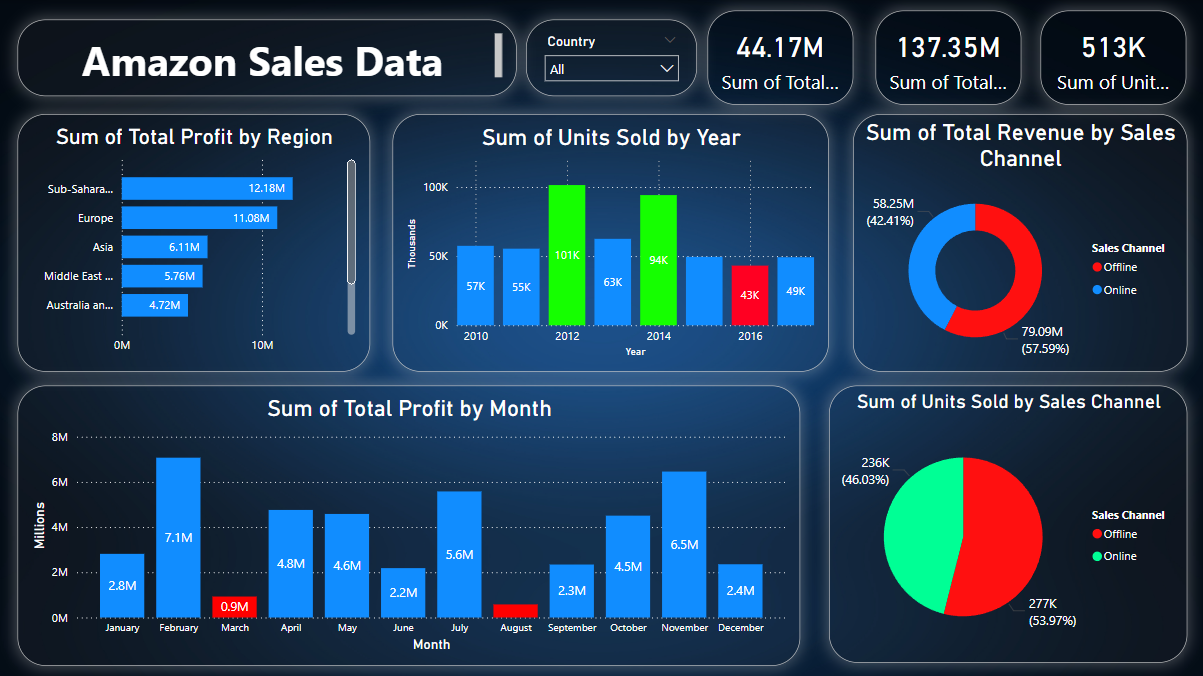

Layout of this report page (visuals, bound fields, positions):
{"tool":"powerbi","page":{"name":"Page 1","canvas":[1280,720],"ordinal":0},"visuals":[{"type":"columnChart","fields":{"Y":["Sum(Amazon Sales data (1).Total Profit)"],"Category":["Amazon Sales data (1).Order Date.Variation.Date Hierarchy.Month"]},"box":[20.7,408.8,830.3,297.4],"z":0},{"type":"barChart","fields":{"Category":["Amazon Sales data (1).Region"],"Y":["Sum(Amazon Sales data (1).Total Profit)"]},"box":[20.7,120.9,373.8,273.6],"z":1000},{"type":"pieChart","fields":{"Category":["Amazon Sales data (1).Sales Channel"],"Y":["Sum(Amazon Sales data (1).Units Sold)"]},"box":[881.2,408.8,380.2,294.3],"z":2000},{"type":"donutChart","fields":{"Category":["Amazon Sales data (1).Sales Channel"],"Y":["Sum(Amazon Sales data (1).Total Revenue)"]},"box":[906.6,120.9,354.7,273.6],"z":3000},{"type":"columnChart","fields":{"Category":["Amazon Sales data (1).Ship Date.Variation.Date Hierarchy.Year"],"Y":["Sum(Amazon Sales data (1).Units Sold)"]},"box":[418.3,120.9,462.9,273.6],"z":4000},{"type":"slicer","fields":{"Values":["Amazon Sales data (1).Country"]},"box":[559.4,20.8,181.4,81.3],"z":5000},{"type":"textbox","box":[20.8,20.8,529.1,81.3],"z":6000},{"type":"card","fields":{"Values":["Sum(Amazon Sales data (1).Total Profit)"]},"box":[752.1,11.3,155,100.2],"z":7000},{"type":"card","fields":{"Values":["Sum(Amazon Sales data (1).Total Revenue)"]},"box":[929.8,11.3,155,100.2],"z":8000},{"type":"card","fields":{"Values":["Sum(Amazon Sales data (1).Units Sold)"]},"box":[1105.5,11.3,155,100.2],"z":9000}]}

Visuals, with their boxes in screenshot pixels (x1, y1, x2, y2), scaled from the page's 1280x720 canvas onto the 1203x676 screenshot:
columnChart - Sum(Amazon Sales data (1).Total Profit) x Amazon Sales data (1).Order Date.Variation.Date Hierarchy.Month: 19,384,800,663
barChart - Amazon Sales data (1).Region x Sum(Amazon Sales data (1).Total Profit): 19,114,371,370
pieChart - Amazon Sales data (1).Sales Channel x Sum(Amazon Sales data (1).Units Sold): 828,384,1186,660
donutChart - Amazon Sales data (1).Sales Channel x Sum(Amazon Sales data (1).Total Revenue): 852,114,1185,370
columnChart - Amazon Sales data (1).Ship Date.Variation.Date Hierarchy.Year x Sum(Amazon Sales data (1).Units Sold): 393,114,828,370
slicer - Amazon Sales data (1).Country: 526,20,696,96
textbox: 20,20,517,96
card - Sum(Amazon Sales data (1).Total Profit): 707,11,853,105
card - Sum(Amazon Sales data (1).Total Revenue): 874,11,1020,105
card - Sum(Amazon Sales data (1).Units Sold): 1039,11,1185,105
